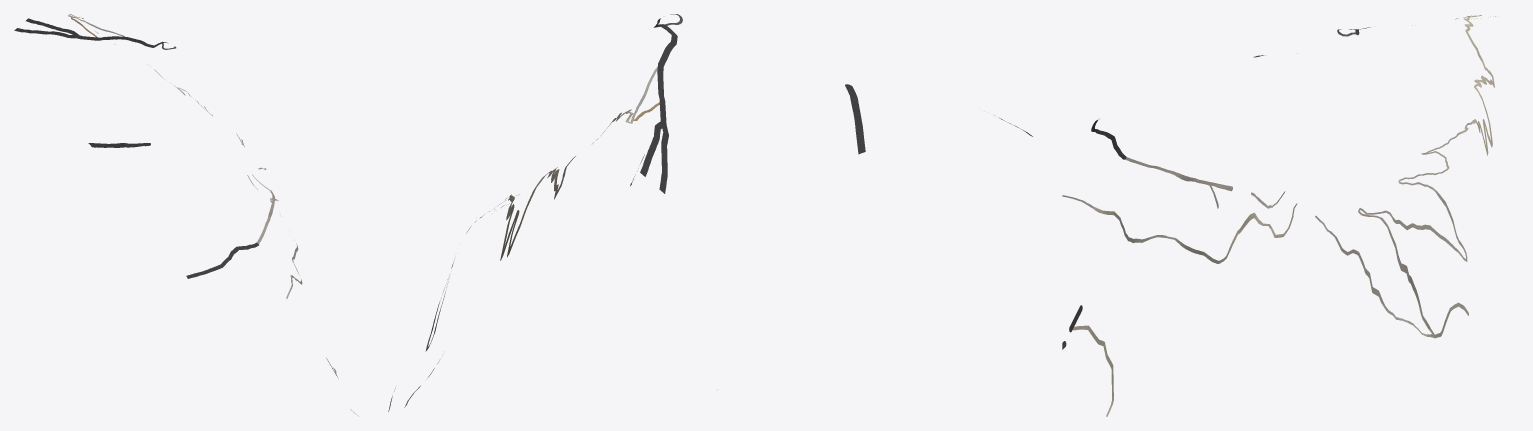
File: roads.glb
3 renders of one model, left to right at view 1: azimuth 30°, elevation 25°; view 2: azimuth 150°, elevation 25°; view 3: azimuth 270°, elevation 25°, orthographic. The views are drawn at different scales.
Visible parts, largest first — view 1: T_E1_S2_roads; view 2: T_E1_S2_roads; view 3: T_E1_S2_roads.
Boxes of the visible parts, x1=… form: T_E1_S2_roads: x1=14, y1=14, x2=358, y2=416; T_E1_S2_roads: x1=388, y1=14, x2=1032, y2=411; T_E1_S2_roads: x1=1062, y1=15, x2=1495, y2=416.
Bounding box in the file's own units: 290 × 414 × 500.
